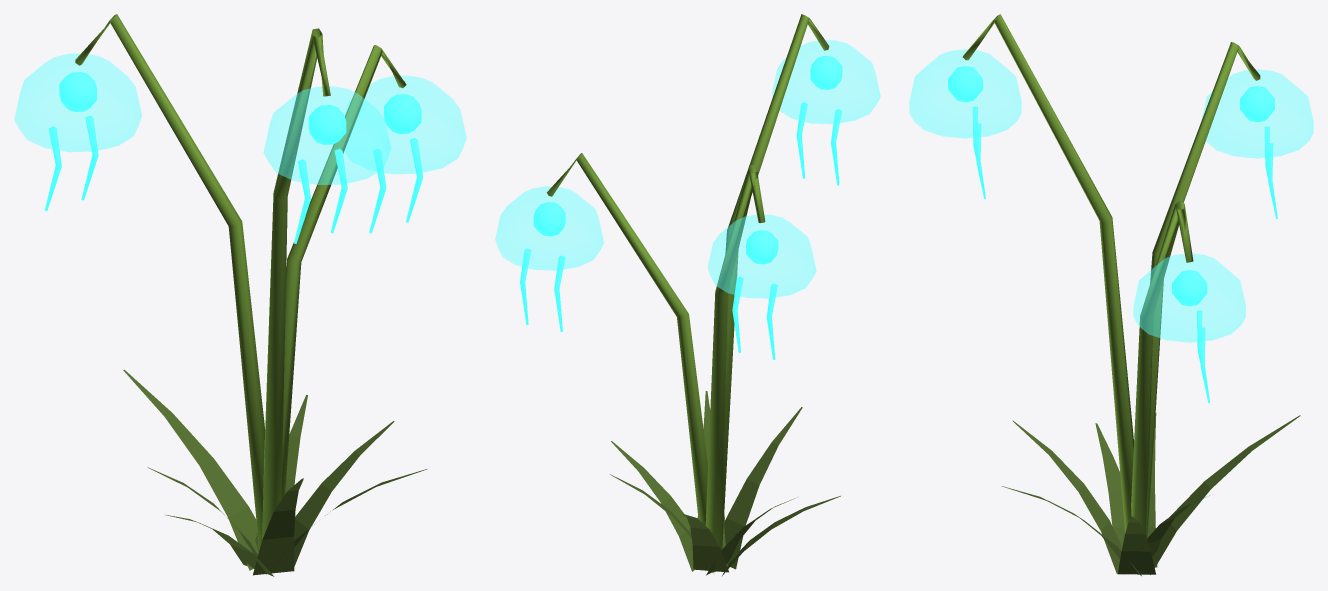
The model's file is city_glow_bell.glb.
3 views of the same model, side by side, from view 1: azimuth 30°, elevation 25°; view 2: azimuth 150°, elevation 25°; view 3: azimuth 270°, elevation 25° (orthographic). The views are drawn at different scales.
Parts seen in each view (by area): view 1: CityGlowBell_Bell2_Halo, CityGlowBell_Bell1_Halo, CityGlowBell_Leaves, CityGlowBell_Bell0_Halo, CityGlowBell_Stem2, CityGlowBell_Stem1, CityGlowBell_Stem0, CityGlowBell_Bell2_Core, CityGlowBell_Bell1_Core, CityGlowBell_Bell0_Core; view 2: CityGlowBell_Bell1_Halo, CityGlowBell_Bell0_Halo, CityGlowBell_Bell2_Halo, CityGlowBell_Leaves, CityGlowBell_Stem1, CityGlowBell_Stem0, CityGlowBell_Stem2, CityGlowBell_Bell0_Core, CityGlowBell_Bell1_Core, CityGlowBell_Bell2_Core; view 3: CityGlowBell_Bell0_Halo, CityGlowBell_Bell2_Halo, CityGlowBell_Stem2, CityGlowBell_Bell1_Halo, CityGlowBell_Leaves, CityGlowBell_Stem0, CityGlowBell_Stem1, CityGlowBell_Bell0_Core, CityGlowBell_Bell1_Core, CityGlowBell_Bell2_Core.
Boxes of the visible parts, x1,y1,x2,y2 form: CityGlowBell_Bell2_Halo: (263, 86, 390, 184); CityGlowBell_Bell1_Halo: (14, 53, 141, 151); CityGlowBell_Leaves: (123, 369, 427, 576); CityGlowBell_Bell0_Halo: (344, 76, 466, 173); CityGlowBell_Stem2: (262, 28, 330, 539); CityGlowBell_Stem1: (75, 14, 265, 549); CityGlowBell_Stem0: (281, 45, 406, 499); CityGlowBell_Bell2_Core: (308, 105, 346, 144); CityGlowBell_Bell1_Core: (59, 72, 96, 111); CityGlowBell_Bell0_Core: (384, 94, 421, 134); CityGlowBell_Bell1_Halo: (708, 215, 816, 298); CityGlowBell_Bell0_Halo: (495, 186, 603, 270); CityGlowBell_Bell2_Halo: (772, 40, 880, 123); CityGlowBell_Leaves: (610, 391, 840, 575); CityGlowBell_Stem1: (705, 165, 765, 572); CityGlowBell_Stem0: (546, 153, 707, 525); CityGlowBell_Stem2: (721, 14, 829, 549); CityGlowBell_Bell0_Core: (533, 202, 565, 236); CityGlowBell_Bell1_Core: (746, 230, 778, 264); CityGlowBell_Bell2_Core: (810, 56, 842, 89); CityGlowBell_Bell0_Halo: (1133, 254, 1245, 342); CityGlowBell_Bell2_Halo: (909, 49, 1021, 138); CityGlowBell_Stem2: (962, 14, 1133, 532); CityGlowBell_Bell1_Halo: (1202, 69, 1313, 158); CityGlowBell_Leaves: (1002, 413, 1300, 575); CityGlowBell_Stem0: (1131, 200, 1193, 536); CityGlowBell_Stem1: (1146, 42, 1260, 538); CityGlowBell_Bell0_Core: (1172, 270, 1207, 306); CityGlowBell_Bell1_Core: (1240, 86, 1274, 122); CityGlowBell_Bell2_Core: (948, 66, 982, 102).
Size of the model in its own units: 1.29 by 1.86 by 1.26.
